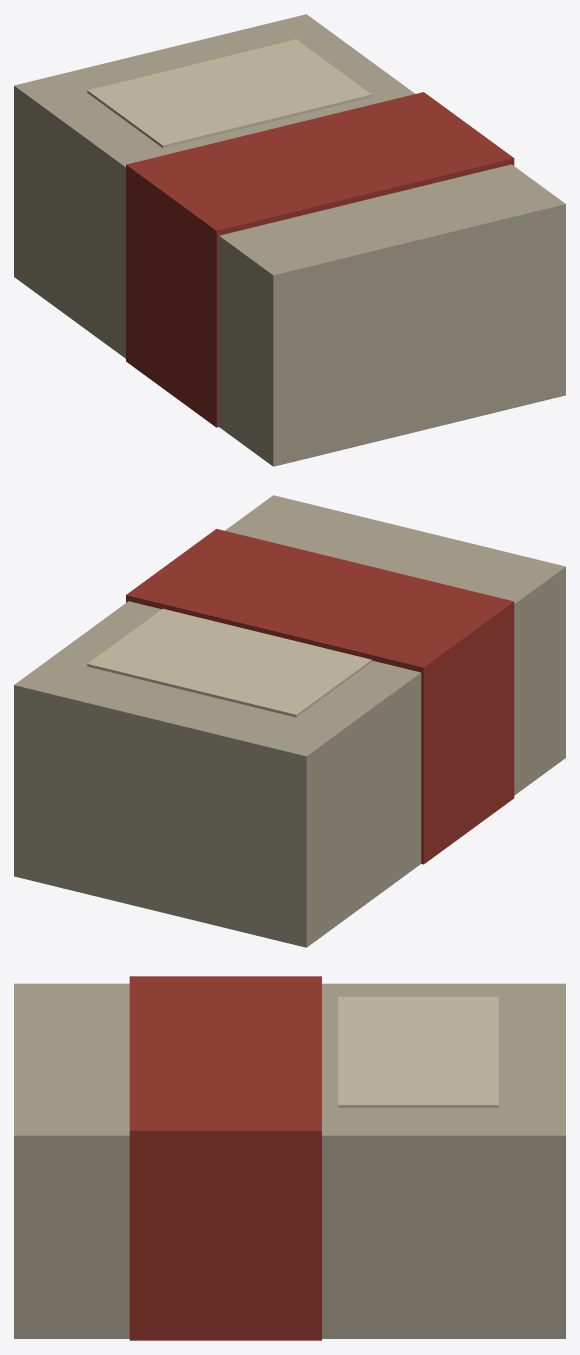
File: blank-tape-pack.glb
3 renders of one model, top to bottom at view 1: azimuth 30°, elevation 25°; view 2: azimuth 150°, elevation 25°; view 3: azimuth 270°, elevation 25°, orthographic. The views are drawn at different scales.
Visible parts, largest first — view 1: plastic-light, accent-warm, paper; view 2: plastic-light, accent-warm, paper; view 3: plastic-light, accent-warm, paper.
Part boxes in pixels (x1,y1,x2,y2): plastic-light: [14, 14, 565, 466]; accent-warm: [126, 92, 514, 427]; paper: [87, 39, 371, 147]; plastic-light: [14, 495, 565, 947]; accent-warm: [126, 529, 514, 864]; paper: [87, 608, 371, 717]; plastic-light: [14, 983, 565, 1338]; accent-warm: [129, 976, 321, 1340]; paper: [338, 996, 498, 1107].
Bounding box in the file's own units: 0.114 × 0.073 × 0.172.
